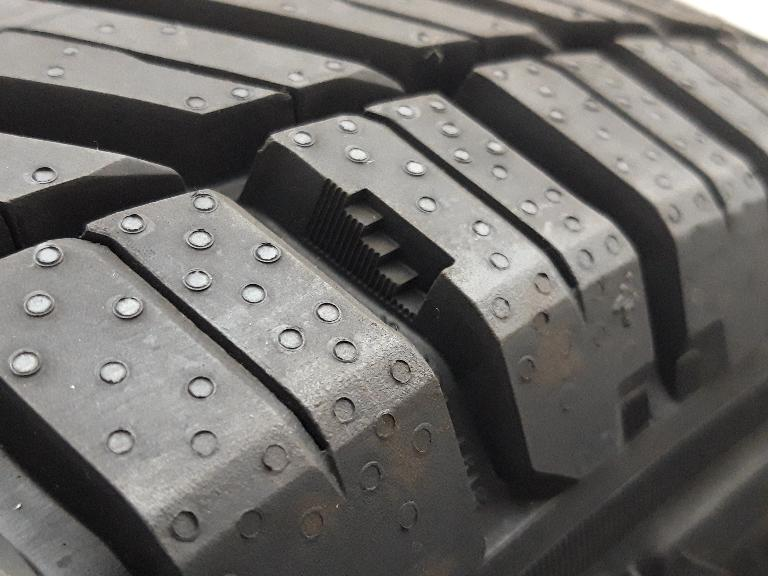temoin:100: (295, 170, 462, 334)
